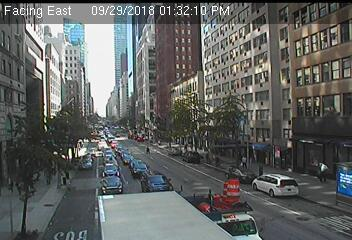car: (97, 194, 234, 240), (184, 192, 261, 240), (252, 173, 299, 196), (141, 171, 174, 192), (226, 166, 257, 184), (101, 176, 124, 194), (129, 160, 151, 177), (182, 151, 201, 164), (103, 164, 120, 177), (80, 159, 94, 170), (167, 148, 182, 157)
